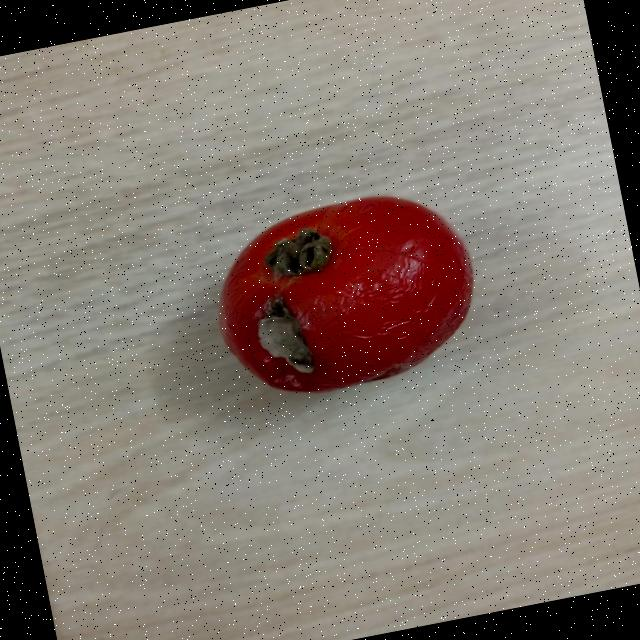Rotten: (205, 180, 490, 410)
